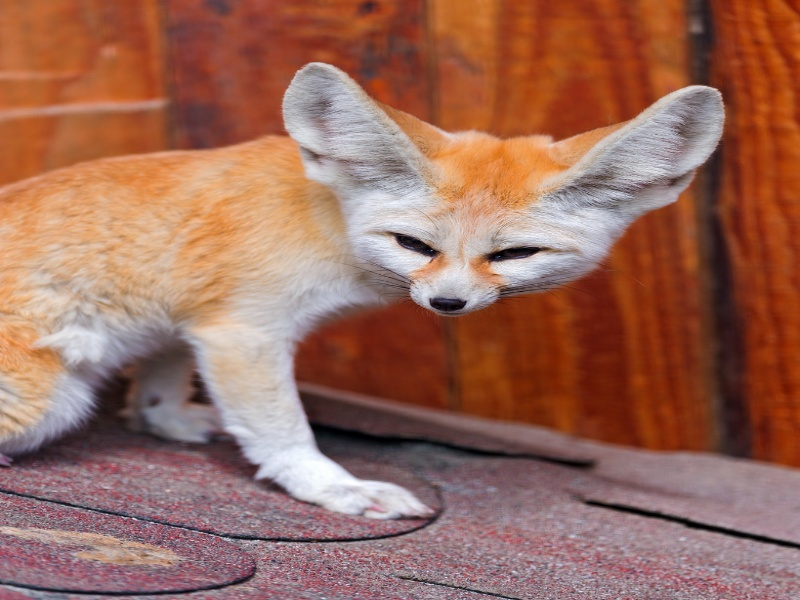fox: (1, 63, 733, 530)
